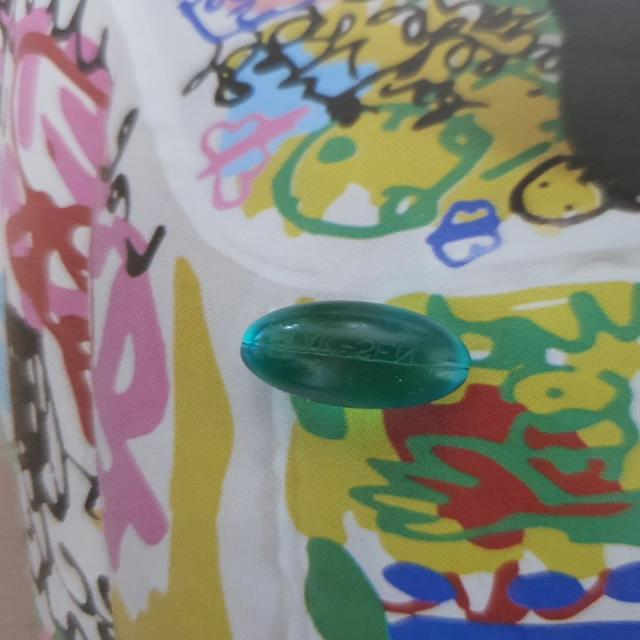pill: (234, 298, 494, 416)
